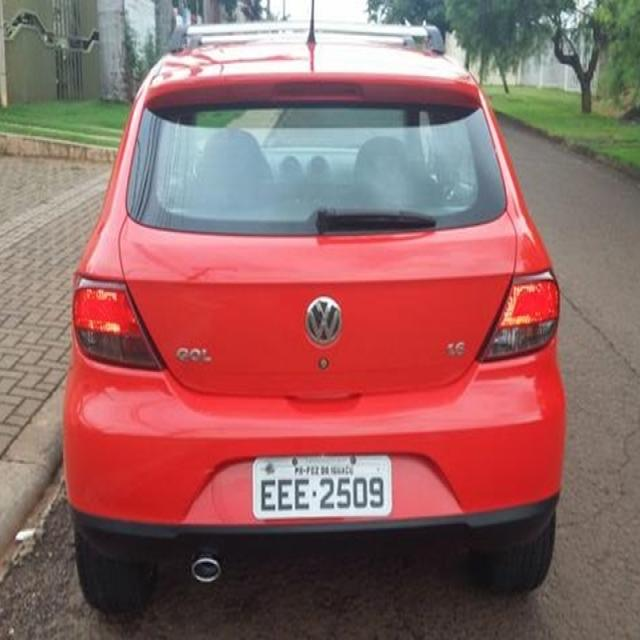Placa: (248, 451, 397, 520)
